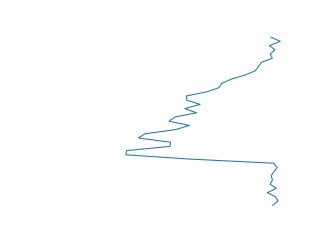proximalDeepseaFan: (119, 35, 285, 209)
